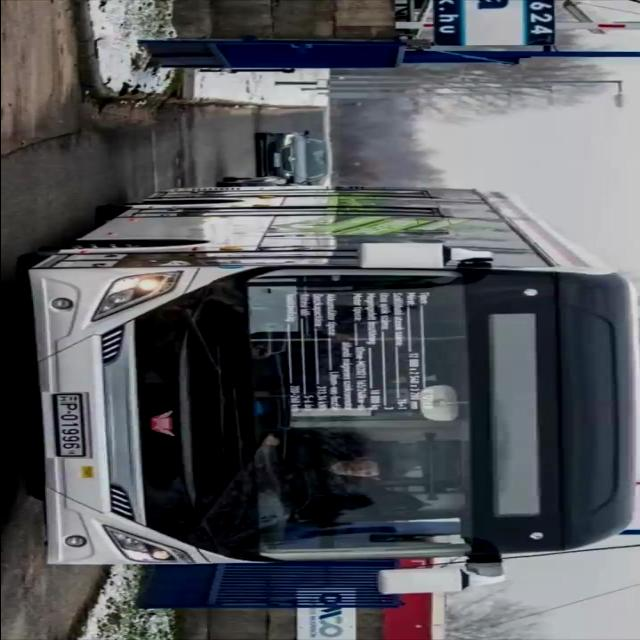bus: (17, 183, 637, 596)
